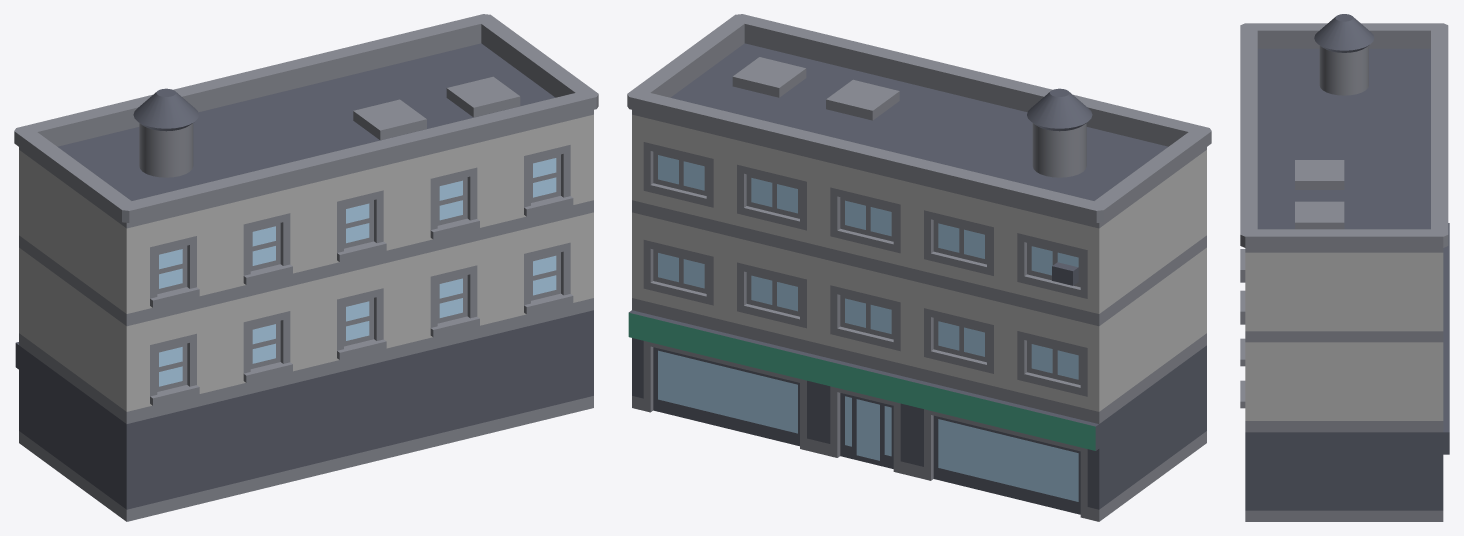
File: wall_n_large1_large_buildingf_lev5.glb
3 views of the same model, side by side, from view 1: azimuth 30°, elevation 25°; view 2: azimuth 150°, elevation 25°; view 3: azimuth 270°, elevation 25° (orthographic). The views are drawn at different scales.
Visible parts, largest first — view 1: wall_n_large1_large_buildingf_lev5; view 2: wall_n_large1_large_buildingf_lev5; view 3: wall_n_large1_large_buildingf_lev5.
Part boxes in pixels (<box>): wall_n_large1_large_buildingf_lev5: <box>14,14,598,521</box>; wall_n_large1_large_buildingf_lev5: <box>627,14,1211,521</box>; wall_n_large1_large_buildingf_lev5: <box>1240,14,1449,521</box>.
Bounding box in the file's own units: 23.4 × 17.21 × 9.69.
